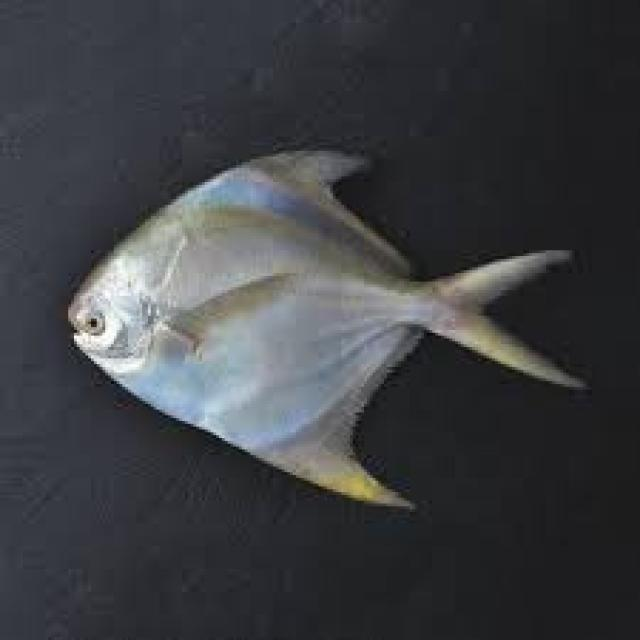pomfred: (68, 148, 583, 507)
